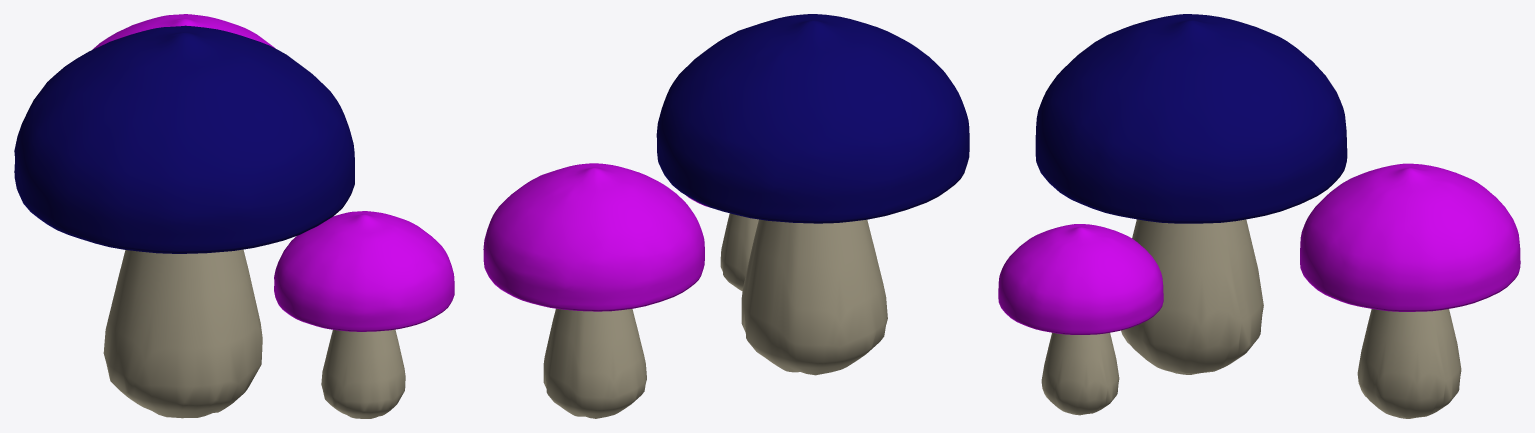
Rendered from l_grzyb_2.fbx.
3 renders of one model, left to right at view 1: azimuth 30°, elevation 25°; view 2: azimuth 150°, elevation 25°; view 3: azimuth 270°, elevation 25°, orthographic. The views are drawn at different scales.
Visible parts, largest first — view 1: Sphere.001, Sphere.003, Sphere.002; view 2: Sphere.001, Sphere.002, Sphere.003; view 3: Sphere.001, Sphere.002, Sphere.003.
Boxes of the visible parts, box(x1,y1,x2,y2) form: Sphere.001: box(14, 25, 354, 418); Sphere.003: box(274, 211, 454, 418); Sphere.002: box(92, 14, 275, 49); Sphere.001: box(656, 14, 969, 375); Sphere.002: box(483, 163, 704, 418); Sphere.003: box(686, 195, 758, 291); Sphere.001: box(1035, 14, 1347, 374); Sphere.002: box(1300, 163, 1520, 418); Sphere.003: box(998, 224, 1163, 415).
Size of the model in its own units: 0.1244 by 0.1653 by 0.1181.
